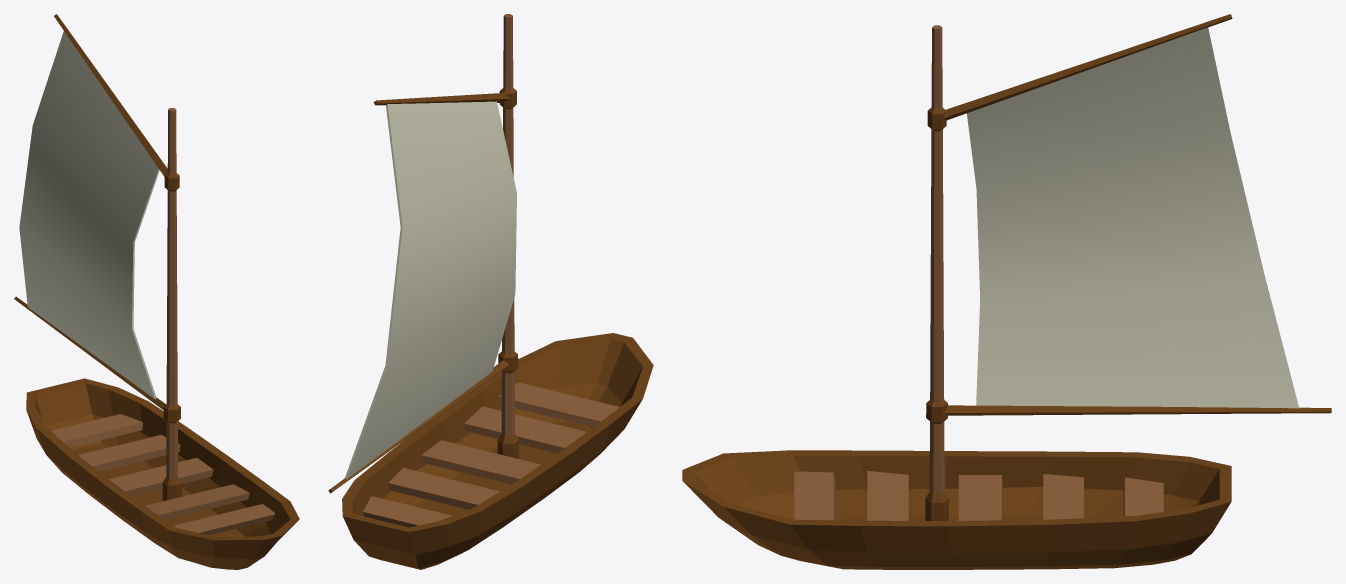
The model's file is MizzenSailboat.fbx.
3 views of the same model, side by side, from view 1: azimuth 30°, elevation 25°; view 2: azimuth 150°, elevation 25°; view 3: azimuth 270°, elevation 25° (orthographic). The views are drawn at different scales.
Visible parts, largest first — view 1: MizzenSailboat; view 2: MizzenSailboat; view 3: MizzenSailboat.
Boxes of the visible parts, bbox=[...] form: MizzenSailboat: bbox=[14, 14, 299, 569]; MizzenSailboat: bbox=[328, 14, 653, 569]; MizzenSailboat: bbox=[682, 14, 1331, 569].
Size of the model in its own units: 102 by 340 by 373.
